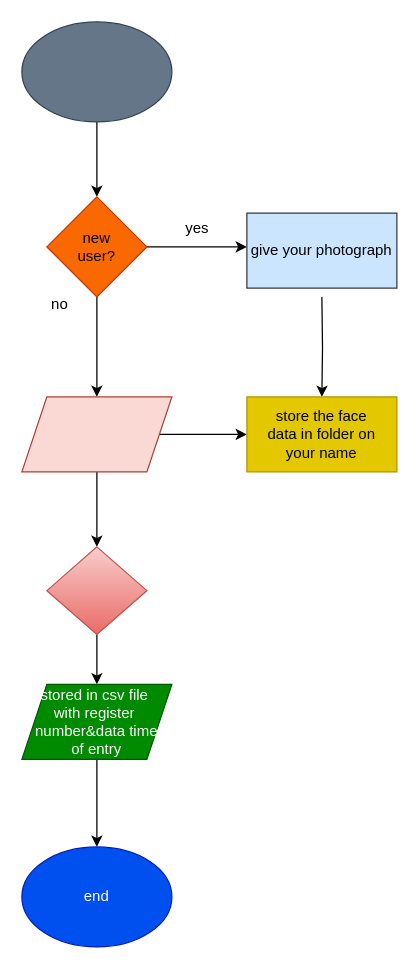
This 419x969 diagram has some shape labels left out. Each missing label, with the centre of its shape:
"face recognized" belongs at point 96,590.
"recognize the face" belongs at point 96,434.
"start" belongs at point 96,71.
